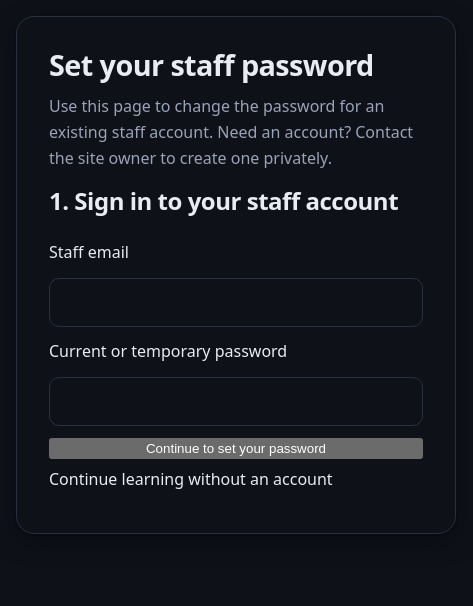
Test case: private staff password setup › saves the password and signs out only after a successful update
Type "owner@example.com" into the field labelled "Staff email" at x=236, y=302, box [49, 278, 423, 327]
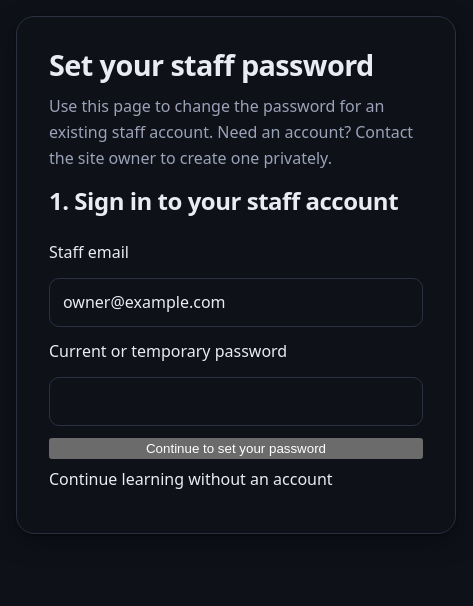
Type "test-temporary-value" into the password field labelled "Current or temporary password" at x=236, y=402, box [49, 377, 423, 426]
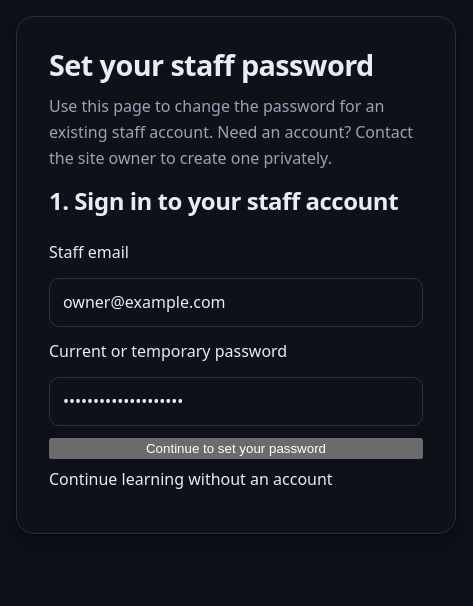
Click the button "Continue to set your password" at x=236, y=449, box [49, 438, 423, 459]
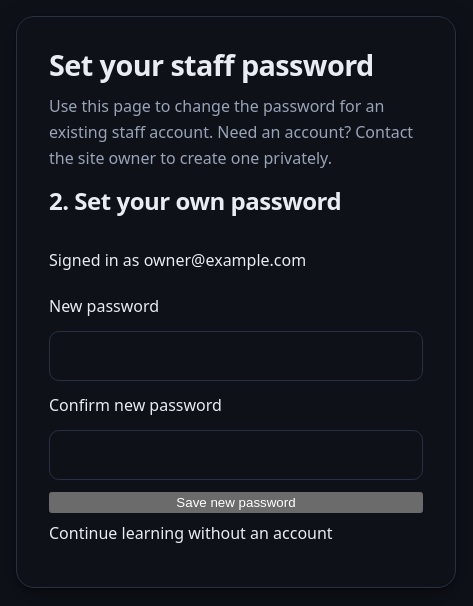
Expected: the password field labelled "New password" is shown
Type "test-new-password" into the password field labelled "New password" at x=236, y=356, box [49, 331, 423, 381]
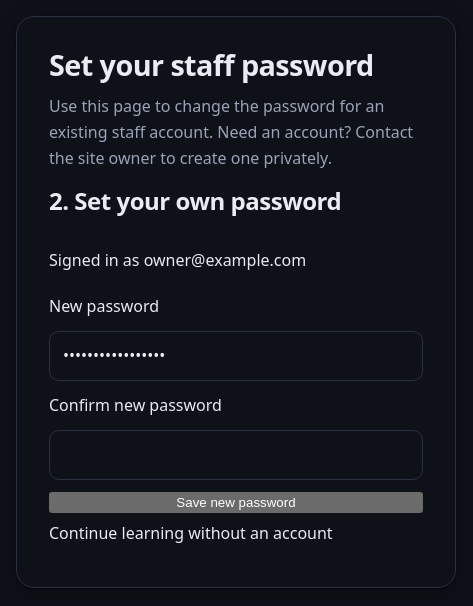
Type "test-new-password" into the password field labelled "Confirm new password" at x=236, y=455, box [49, 430, 423, 480]
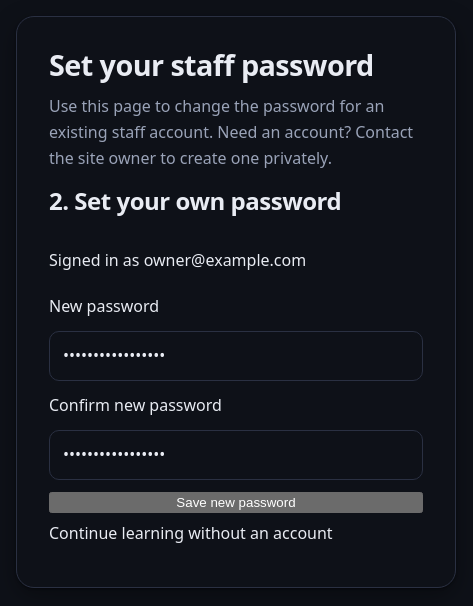
Click the button "Save new password" at x=236, y=502, box [49, 492, 423, 513]
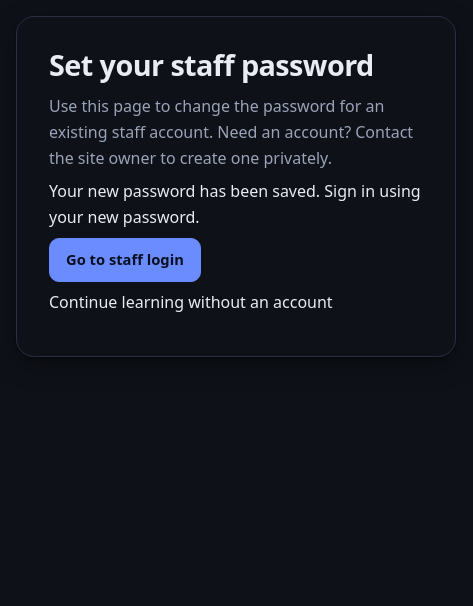
Expected: the message shows "new password has been saved", [49, 180, 421, 228]
